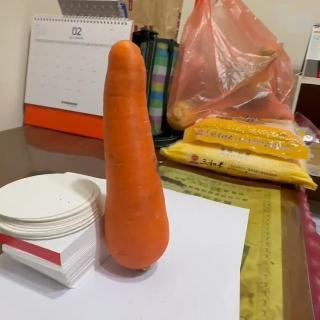carrot: (102, 39, 170, 272)
